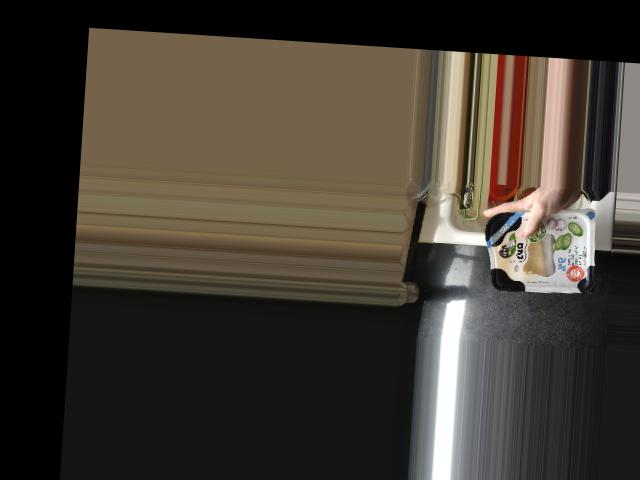cheese: (481, 203, 594, 295)
